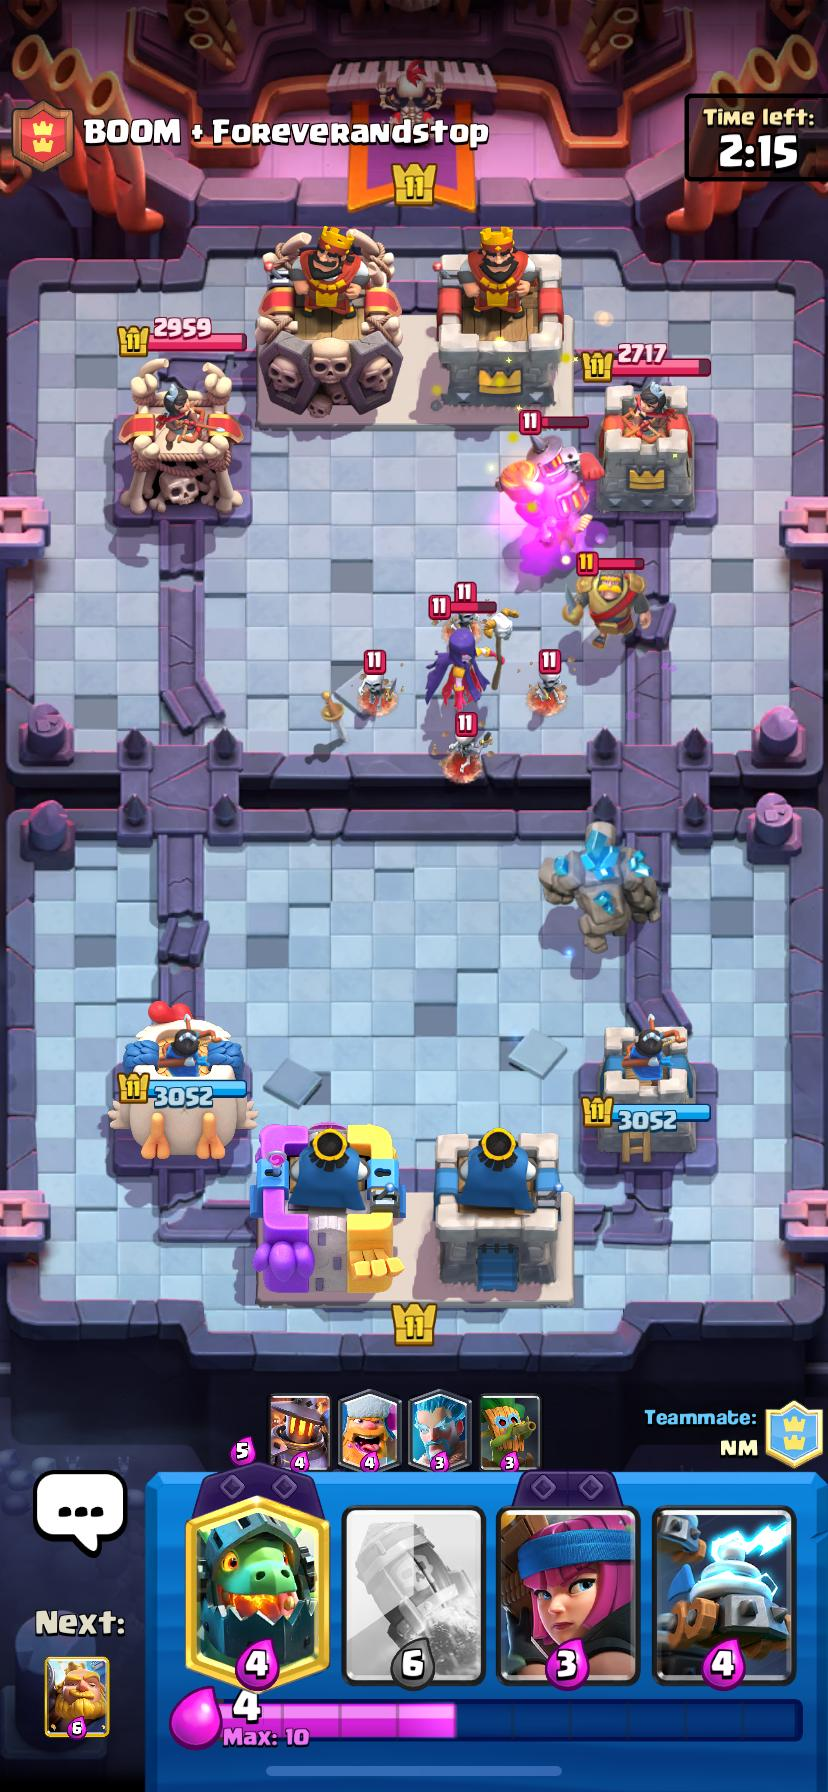EFurnace: (501, 435, 602, 543)
EKingTower: (255, 227, 403, 417)
EKnight: (563, 565, 648, 648)
ELarry: (443, 713, 489, 784), (357, 649, 397, 720), (528, 648, 566, 717)
EWitch: (425, 626, 488, 711)
EnemyPrincessTower: (118, 359, 242, 514), (596, 359, 709, 518)
OGolem: (538, 808, 659, 953)
OwnKingTower: (253, 1123, 403, 1299), (433, 1126, 573, 1303)
OwnPrincessTower: (433, 227, 567, 410), (111, 1003, 254, 1159), (580, 1016, 716, 1168)
